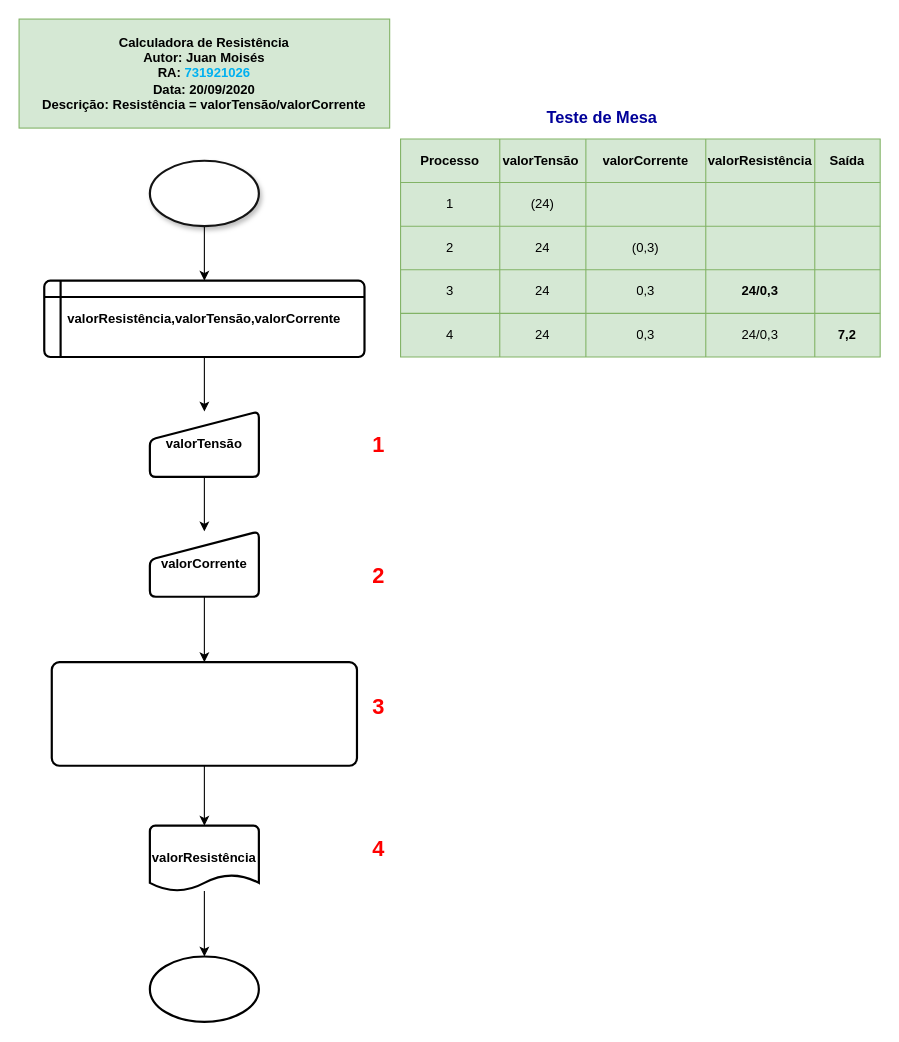
The diagram is 899 pixels wide and 1042 high, and some of its shapes have lost their labels. Here are the shapes that lost their labels. From the top down, the centre of each, then its label:
the point at 205,194: Inicio
the point at 204,713: valorResistência = valorTensão/valorCorrente
the point at 203,988: Fim
